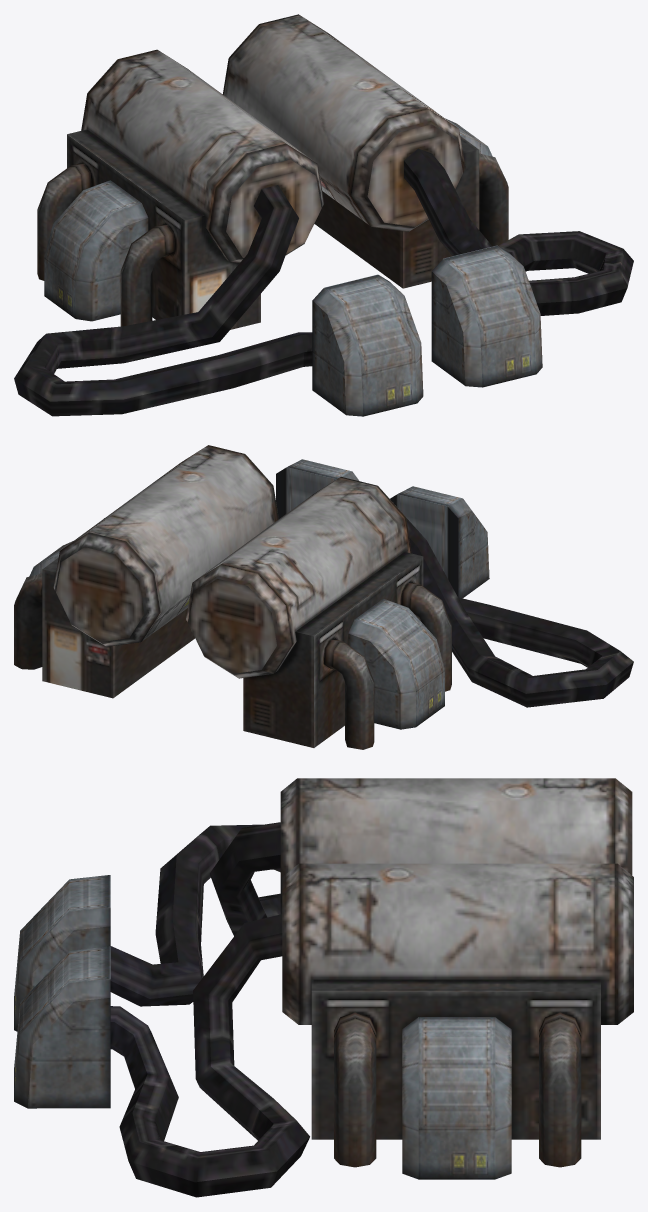
The model's file is SM_EN_1002_guandao04.FBX.
3 views of the same model, one above another, from view 1: azimuth 30°, elevation 25°; view 2: azimuth 150°, elevation 25°; view 3: azimuth 270°, elevation 25° (orthographic). The views are drawn at different scales.
Visible parts, largest first — view 1: SM_EN_1002_guandao04; view 2: SM_EN_1002_guandao04; view 3: SM_EN_1002_guandao04.
Boxes of the visible parts, x1=… form: SM_EN_1002_guandao04: x1=14, y1=14, x2=633, y2=416; SM_EN_1002_guandao04: x1=14, y1=445, x2=633, y2=749; SM_EN_1002_guandao04: x1=14, y1=778, x2=633, y2=1197.
Bounding box in the file's own units: 233 × 69.39 × 174.
